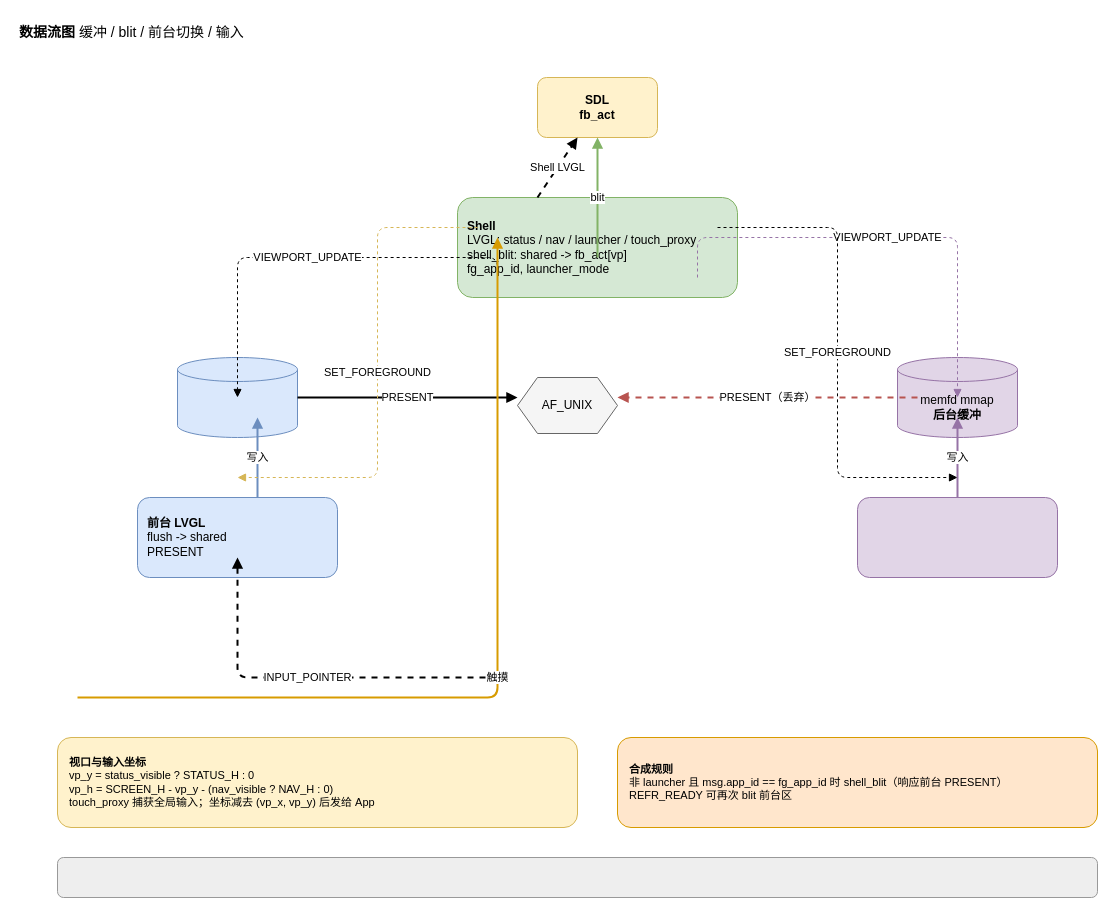
This 1115x915 diagram has some shape labels left out. The shapes that lost their labels are listed below. From the top down, each one's box as (x1, y1, x2, y2) in pixels, then its label:
(176, 356, 298, 438): memfd mmap 前台缓冲
(856, 496, 1058, 578): 后台 LVGL flush / PRESENT 不参与合成
(56, 856, 1098, 898): main.c SHELL_PROCESS: hal_init -> shell_main | APP_PROCESS: 无 SDL，flush 只写 memfd
